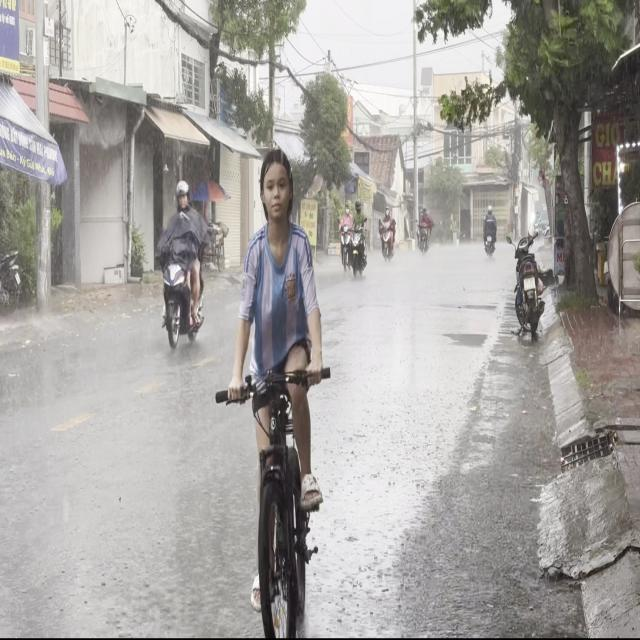helmet: (174, 178, 189, 210)
licenseplate: (156, 178, 207, 351)
